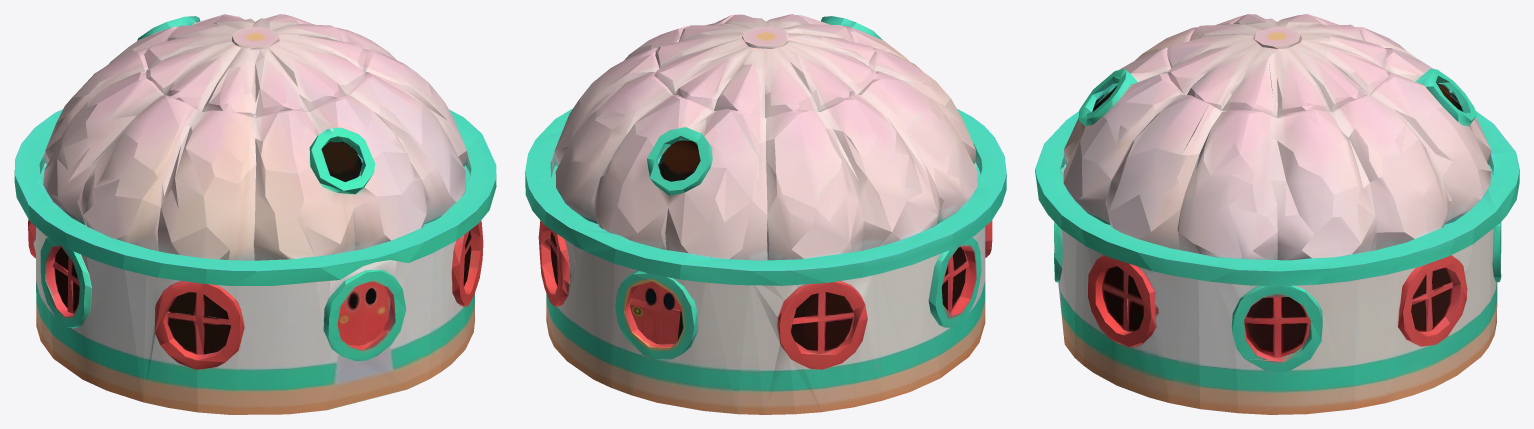
Rendered from home.glb.
3 renders of one model, left to right at view 1: azimuth 30°, elevation 25°; view 2: azimuth 150°, elevation 25°; view 3: azimuth 270°, elevation 25°, orthographic.
Size of the model in its own units: 1.9 by 1.24 by 1.9.
1 material, 1 textured.
